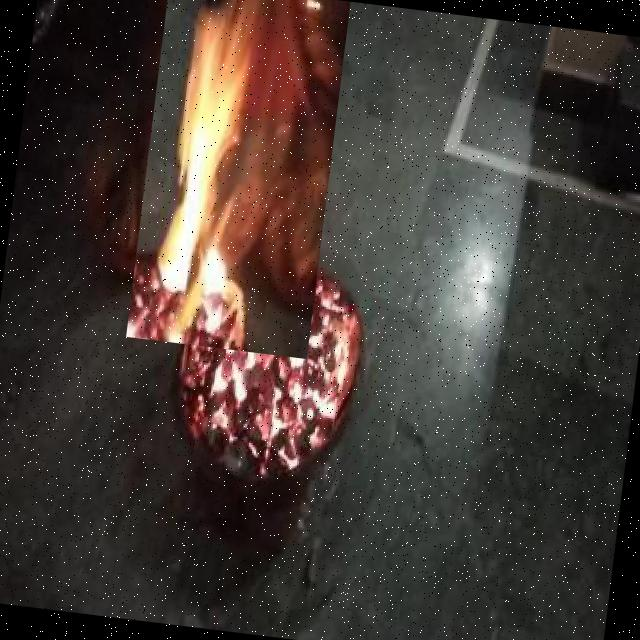fire: (125, 0, 350, 358)
